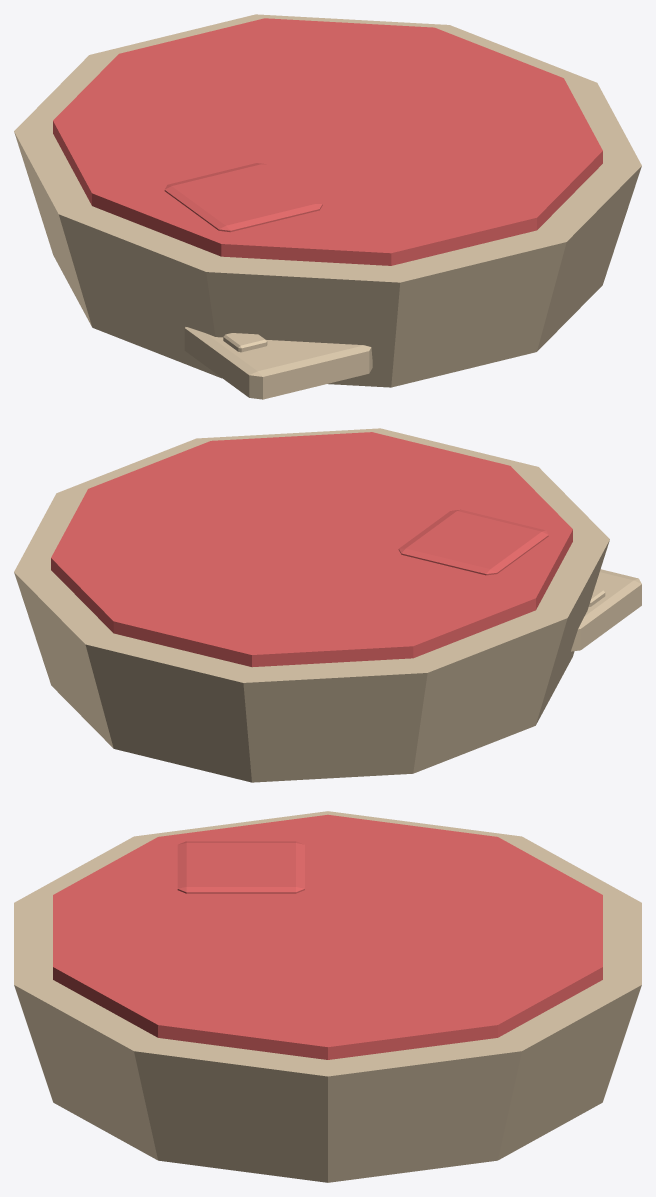
The model's file is b16_molded_four_cup_carrier.glb.
3 views of the same model, one above another, from view 1: azimuth 30°, elevation 25°; view 2: azimuth 150°, elevation 25°; view 3: azimuth 270°, elevation 25° (orthographic). The views are drawn at different scales.
Visible parts, largest first — view 1: b16_molded_four_cup_carrier; view 2: b16_molded_four_cup_carrier; view 3: b16_molded_four_cup_carrier.
Part boxes in pixels (left/top/right/bottom): b16_molded_four_cup_carrier: left=14, top=14, right=641, bottom=399; b16_molded_four_cup_carrier: left=14, top=428, right=641, bottom=782; b16_molded_four_cup_carrier: left=14, top=811, right=641, bottom=1182.
Bounding box in the file's own units: 0.176 × 0.043 × 0.176.
